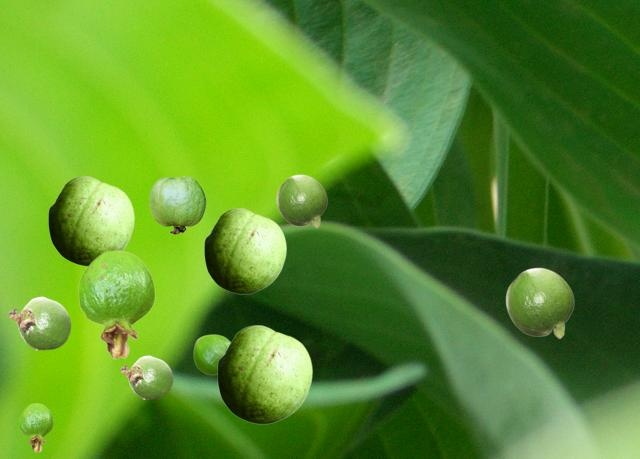guava: (217, 325, 311, 423), (78, 250, 154, 358), (48, 176, 133, 265), (204, 208, 285, 293), (505, 267, 573, 338), (8, 296, 70, 349), (149, 176, 205, 233), (276, 174, 326, 227), (120, 355, 172, 398), (19, 403, 52, 451), (193, 334, 230, 375)
